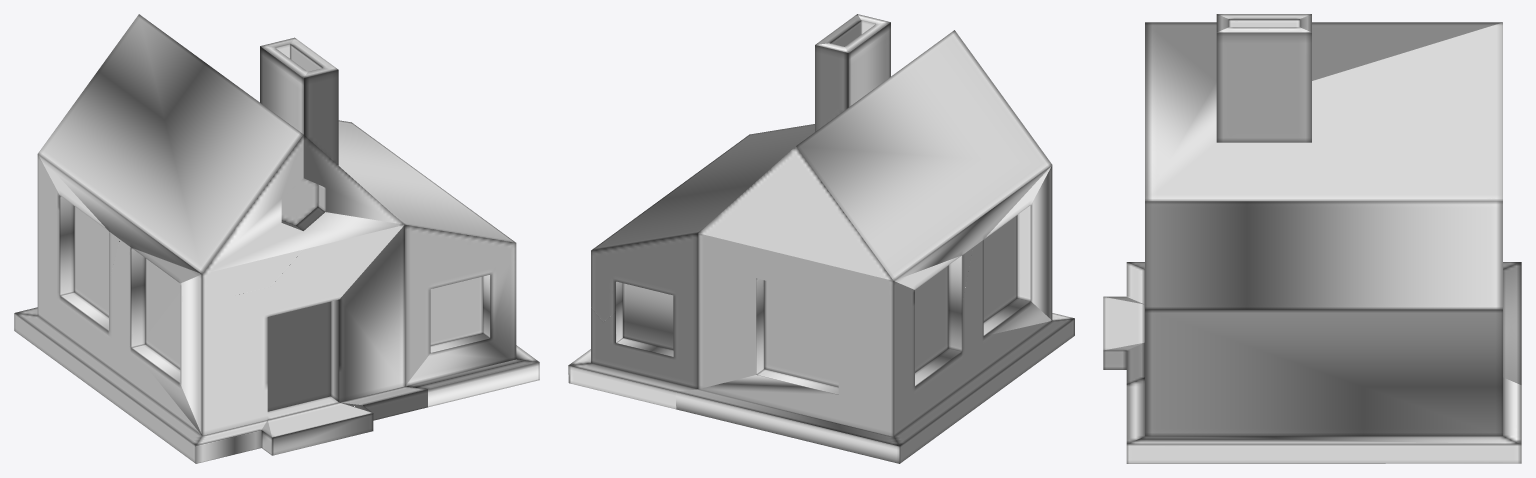
File: House-03.fbx
The picture shows the model from 3 angles, left to right: view 1: azimuth 30°, elevation 25°; view 2: azimuth 150°, elevation 25°; view 3: azimuth 270°, elevation 25°; orthographic projection. The views are drawn at different scales.
Visible parts, largest first — view 1: House_03; view 2: House_03; view 3: House_03.
Boxes of the visible parts, <box> form: House_03: <box>14,14,539,463</box>; House_03: <box>568,14,1074,463</box>; House_03: <box>1103,14,1521,463</box>.
Bounding box in the file's own units: 1.57 × 1.39 × 1.52.
